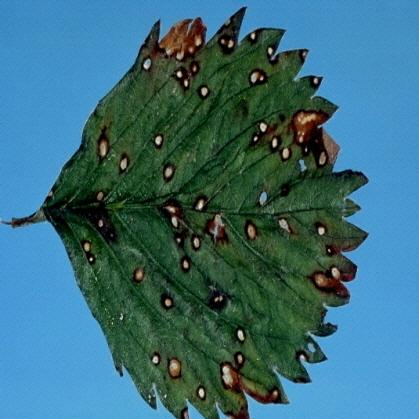Leaf Spot: (42, 4, 371, 418)
